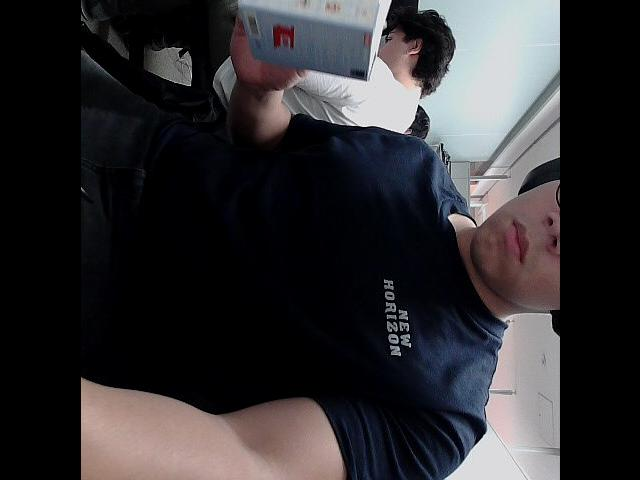Blind_box: (236, 0, 400, 80)
